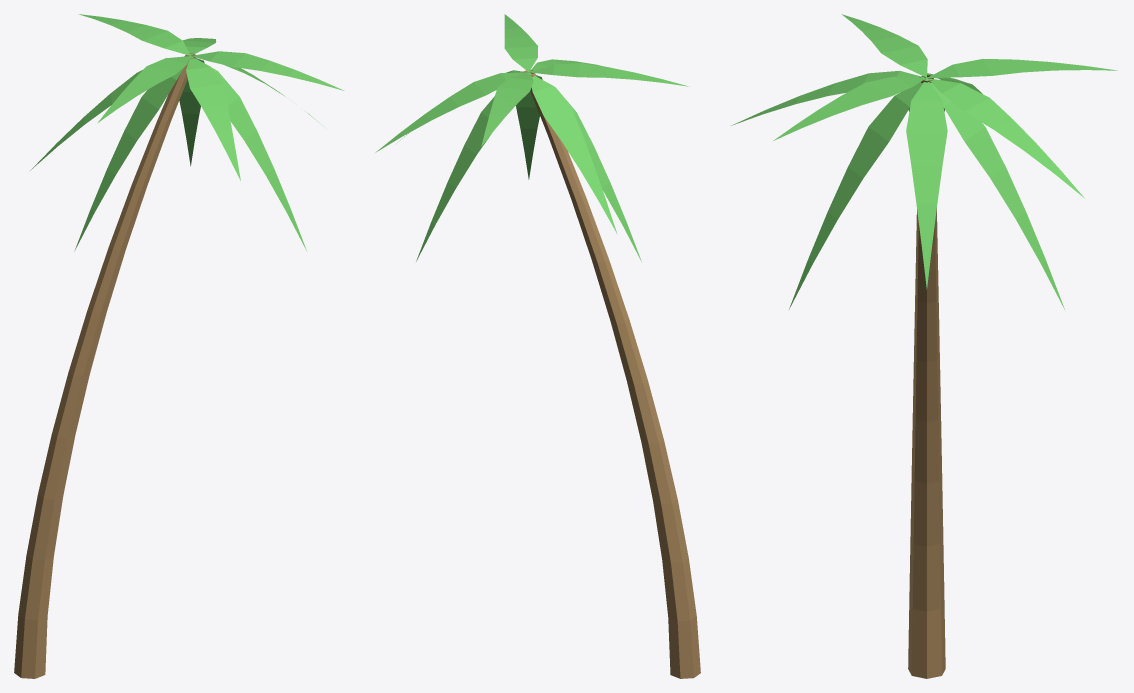
Rendered from PalmTree2.fbx.
3 views of the same model, side by side, from view 1: azimuth 30°, elevation 25°; view 2: azimuth 150°, elevation 25°; view 3: azimuth 270°, elevation 25° (orthographic). The views are drawn at different scales.
Parts seen in each view (by area): view 1: PalmTree2_TrunkMat.003, PalmTree2_LeafMat; view 2: PalmTree2_TrunkMat.003, PalmTree2_LeafMat; view 3: PalmTree2_LeafMat, PalmTree2_TrunkMat.003.
Part boxes in pixels (left/top/right/bottom): PalmTree2_TrunkMat.003: left=14, top=53, right=195, bottom=678; PalmTree2_LeafMat: left=30, top=14, right=344, bottom=250; PalmTree2_TrunkMat.003: left=523, top=70, right=700, bottom=678; PalmTree2_LeafMat: left=375, top=14, right=688, bottom=261; PalmTree2_LeafMat: left=731, top=14, right=1117, bottom=310; PalmTree2_TrunkMat.003: left=908, top=75, right=945, bottom=678.
Size of the model in its own units: 511 by 906 by 465.
